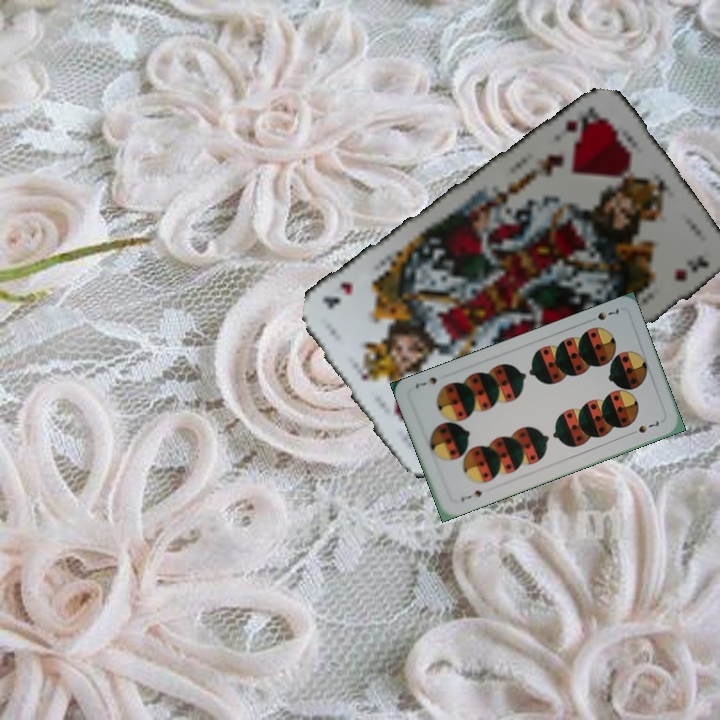HK: (554, 103, 608, 143)
S7: (584, 303, 622, 325), (457, 486, 487, 504)
